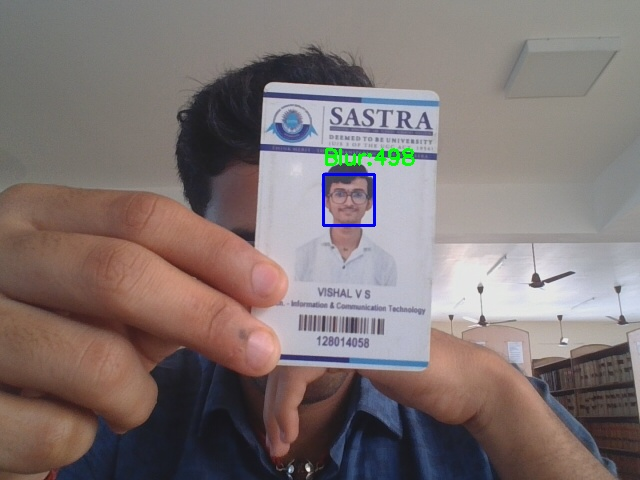fake: (323, 174, 374, 225)
